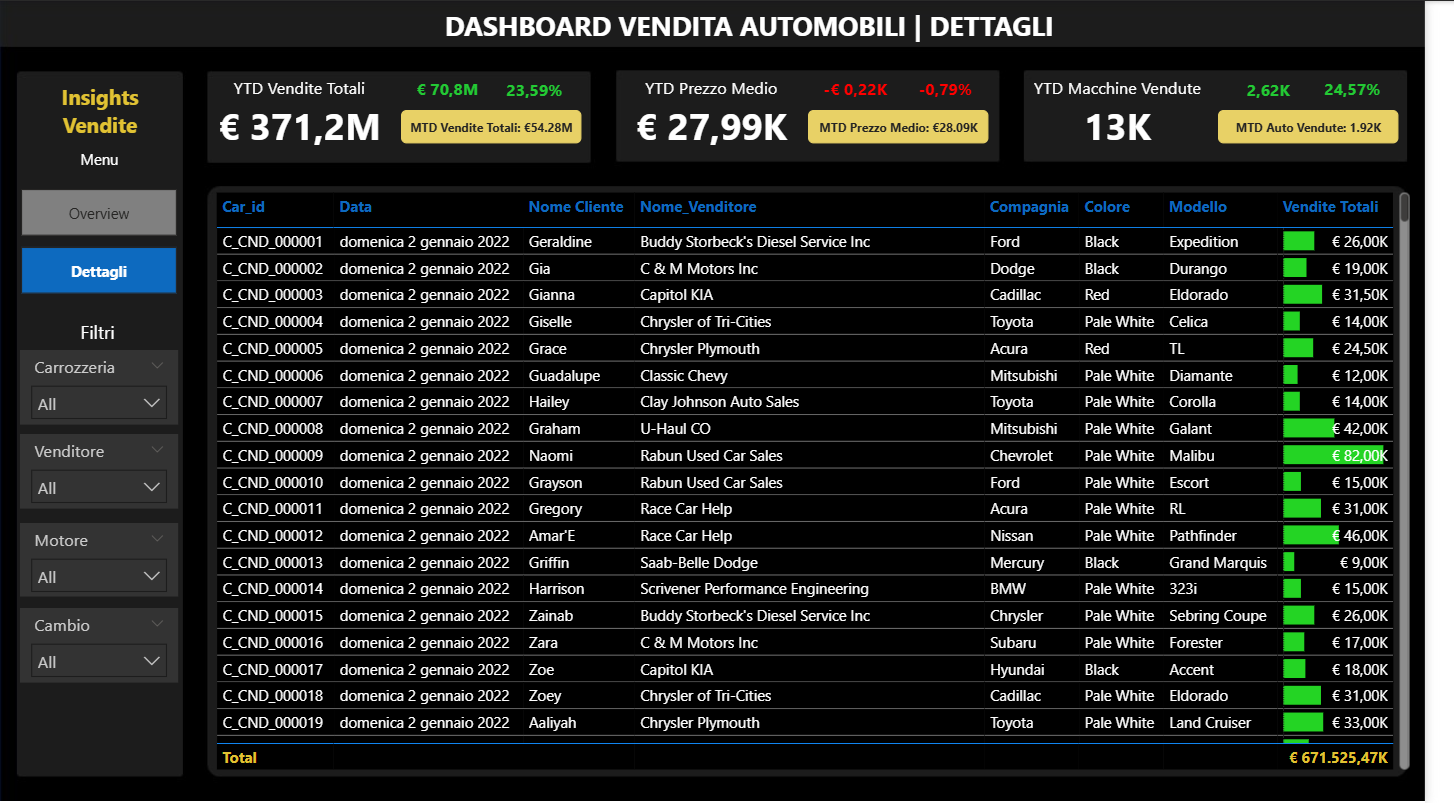

Layout of this report page (visuals, bound fields, positions):
{"tool":"powerbi","page":{"name":"Dettagli","canvas":[1280,720],"ordinal":1},"visuals":[{"type":"card","title":"YTD Vendite Totali","fields":{"Values":["_misure.YTD Vendite Totali"]},"box":[189,67,160.6,69.7],"z":0},{"type":"card","fields":{"Values":["_misure.Differenza Vendite"]},"box":[363.6,67.3,78.1,27.8],"z":1000},{"type":"card","fields":{"Values":["_misure.YoY Crescita"]},"box":[441.3,67,78,28.4],"z":2000},{"type":"card","fields":{"Values":["_misure.Testo MYTD"]},"box":[361.3,98.1,162.3,30.3],"z":3000},{"type":"card","title":"YTD Prezzo Medio","fields":{"Values":["_misure.YTD Prezzo Medio"]},"box":[559.3,66.9,160.5,69.7],"z":4000},{"type":"card","fields":{"Values":["_misure.Prezzo Medio Differenza"]},"box":[729.9,66.9,77.9,27.5],"z":5000},{"type":"card","fields":{"Values":["_misure.YoY Prezzo Medio"]},"box":[810.5,66,77.9,28.4],"z":6000},{"type":"card","fields":{"Values":["_misure.Testo MTD Prezzo Medio"]},"box":[726.2,98.1,162.3,30.3],"z":7000},{"type":"card","title":"YTD Macchine Vendute","fields":{"Values":["_misure calcolate.YTD Auto Vendute"]},"box":[921.1,67.3,166.1,69.1],"z":8000},{"type":"card","fields":{"Values":["_misure calcolate.Auto Vendute Differenza"]},"box":[1100.3,66.9,77.9,28.4],"z":9000},{"type":"card","fields":{"Values":["_misure calcolate.YoY Auto Vendute"]},"box":[1176.4,66,77.9,28.4],"z":10000},{"type":"card","fields":{"Values":["_misure calcolate.Testo MTD Auto Vendute"]},"box":[1094.8,98.1,162.3,30.3],"z":11000},{"type":"textbox","box":[377.6,0,590.8,45.2],"z":12000},{"type":"slicer","fields":{"Values":["car_data.Carrozzeria"]},"box":[18.9,313.3,141.8,67.3],"z":13000},{"type":"slicer","fields":{"Values":["car_data.Nome_Venditore"]},"box":[18.9,388.7,141.8,67.3],"z":14000},{"type":"slicer","fields":{"Values":["car_data.Motore"]},"box":[18.9,468.6,141.8,65.5],"z":15000},{"type":"slicer","fields":{"Values":["car_data.Cambio"]},"box":[18.9,544.9,141.8,67.3],"z":16000},{"type":"textbox","box":[68.2,281,43.1,35],"z":17000},{"type":"tableEx","fields":{"Values":["car_data.Car_id","car_data.Data","car_data.Nome Cliente","car_data.Nome_Venditore","car_data.Compagnia","car_data.Colore","car_data.Modello","car_data.Prezzo (€)"]},"box":[189.4,167,1081.8,527.9],"z":18000},{"type":"textbox","box":[18.9,68.2,143.6,60.1],"z":18001},{"type":"textbox","box":[68.2,128.4,48.5,28.7],"z":18002},{"type":"pageNavigator","box":[19.8,168.8,140.9,95.2],"z":18003}]}

Visuals, with their boxes in screenshot pixels (x1, y1, x2, y2), scaled from the page's 1280x720 canvas onto the 1454x803 screenshot:
"YTD Vendite Totali" card: locate(215, 75, 397, 152)
card - _misure.Differenza Vendite: locate(413, 75, 502, 106)
card - _misure.YoY Crescita: locate(501, 75, 590, 106)
card - _misure.Testo MYTD: locate(410, 109, 595, 143)
"YTD Prezzo Medio" card: locate(635, 75, 818, 152)
card - _misure.Prezzo Medio Differenza: locate(829, 75, 918, 105)
card - _misure.YoY Prezzo Medio: locate(921, 74, 1009, 105)
card - _misure.Testo MTD Prezzo Medio: locate(825, 109, 1009, 143)
"YTD Macchine Vendute" card: locate(1046, 75, 1235, 152)
card - _misure calcolate.Auto Vendute Differenza: locate(1250, 75, 1338, 106)
card - _misure calcolate.YoY Auto Vendute: locate(1336, 74, 1425, 105)
card - _misure calcolate.Testo MTD Auto Vendute: locate(1244, 109, 1428, 143)
textbox: locate(429, 0, 1100, 50)
slicer - car_data.Carrozzeria: locate(21, 349, 183, 424)
slicer - car_data.Nome_Venditore: locate(21, 434, 183, 509)
slicer - car_data.Motore: locate(21, 523, 183, 596)
slicer - car_data.Cambio: locate(21, 608, 183, 683)
textbox: locate(77, 313, 126, 352)
tableEx - car_data.Car_id x car_data.Data: locate(215, 186, 1444, 775)
textbox: locate(21, 76, 185, 143)
textbox: locate(77, 143, 133, 175)
pageNavigator: locate(22, 188, 183, 294)
